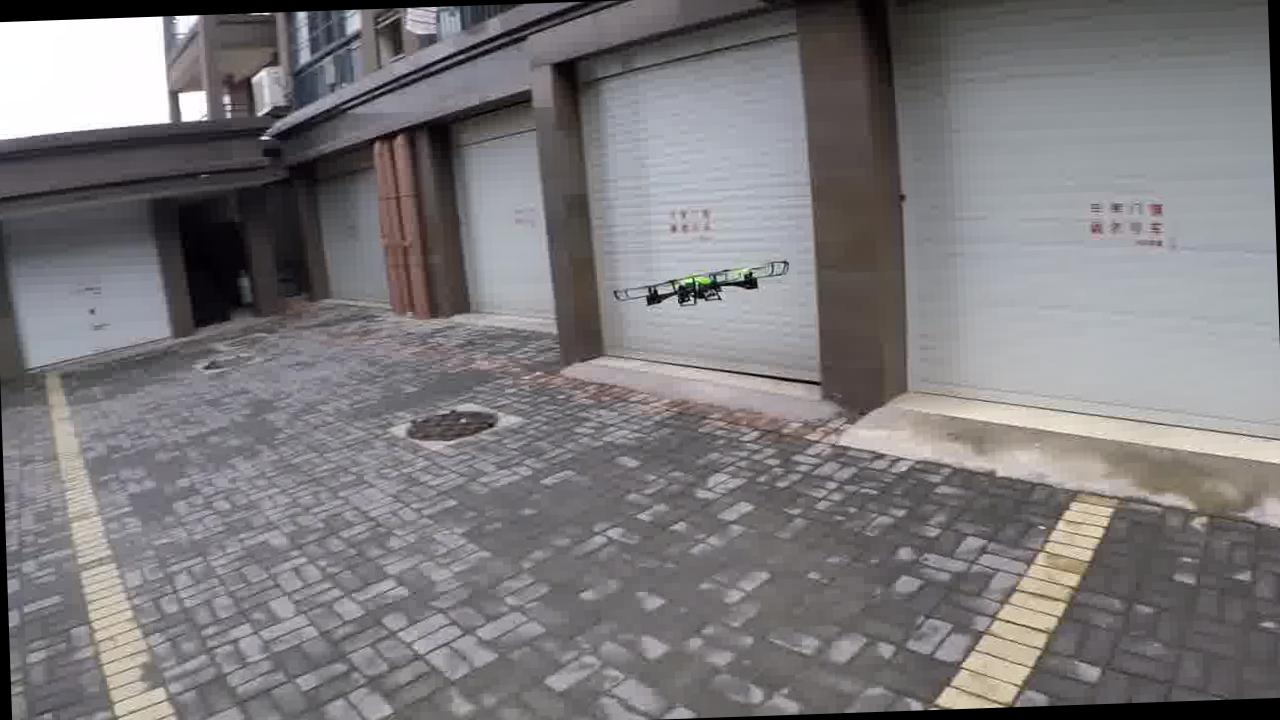drone: (616, 250, 800, 316)
